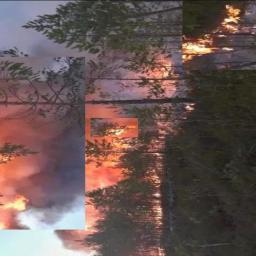Heavy smoke: (3, 3, 86, 256)
Large fire: (87, 58, 174, 256)
Small fire: (182, 0, 244, 68)
